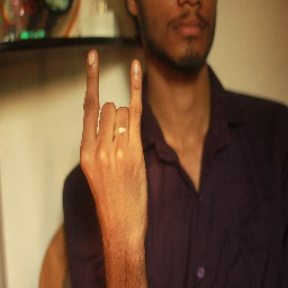V: (74, 44, 153, 222)
